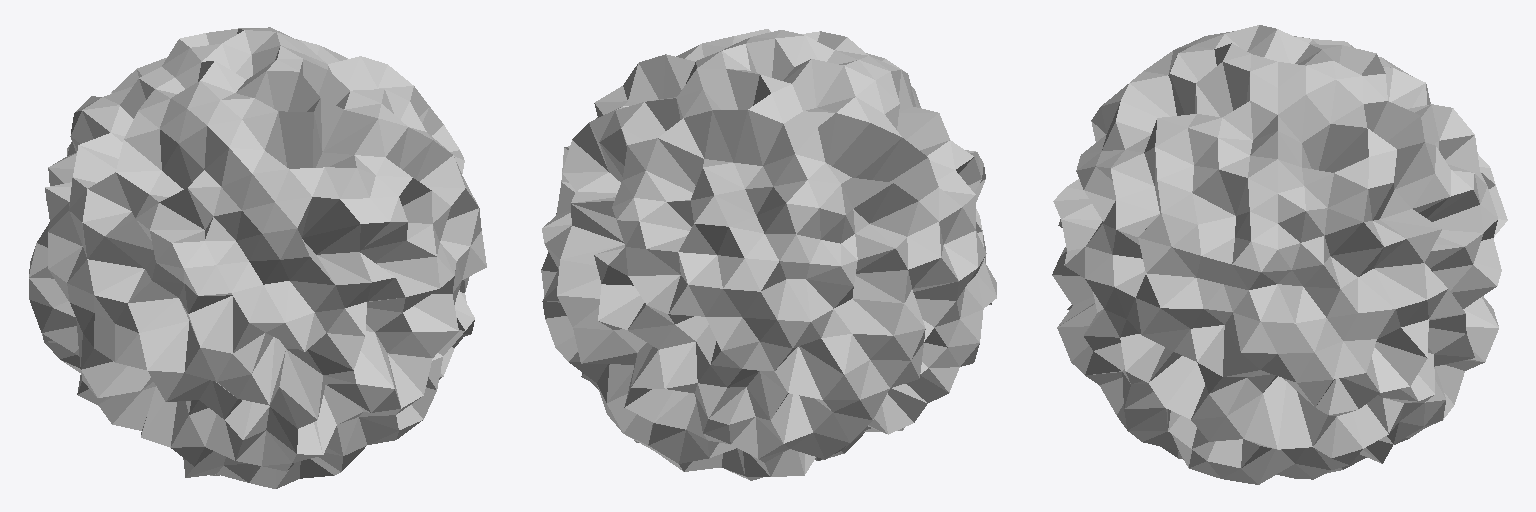
The model's file is Asteroid_ice_big.obj.
3 renders of one model, left to right at view 1: azimuth 30°, elevation 25°; view 2: azimuth 150°, elevation 25°; view 3: azimuth 270°, elevation 25°, orthographic.
Parts seen in each view (by area): view 1: Icosphere; view 2: Icosphere; view 3: Icosphere.
Boxes of the visible parts, x1=… form: Icosphere: x1=29, y1=27, x2=486, y2=488; Icosphere: x1=541, y1=29, x2=996, y2=480; Icosphere: x1=1052, y1=25, x2=1507, y2=484.
Size of the model in its own units: 2.97 by 2.93 by 2.93.